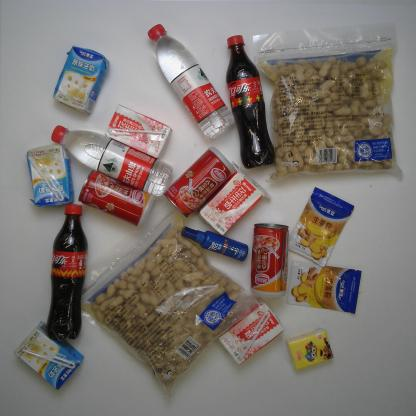Canned Food: (74, 162, 160, 232), (161, 142, 238, 220), (249, 219, 291, 300)
Dried Food: (79, 202, 265, 404), (246, 11, 409, 186)
Drink: (142, 18, 238, 144), (48, 122, 175, 199), (217, 30, 281, 172), (42, 199, 93, 345)
Milk: (195, 158, 274, 238), (11, 315, 89, 396), (214, 293, 287, 368), (49, 40, 113, 117), (98, 101, 178, 161), (20, 138, 79, 209)
Personal Hygiene: (179, 222, 254, 265)
Seasoner: (285, 184, 356, 270), (281, 256, 364, 318)
Tissue: (284, 326, 342, 373)
